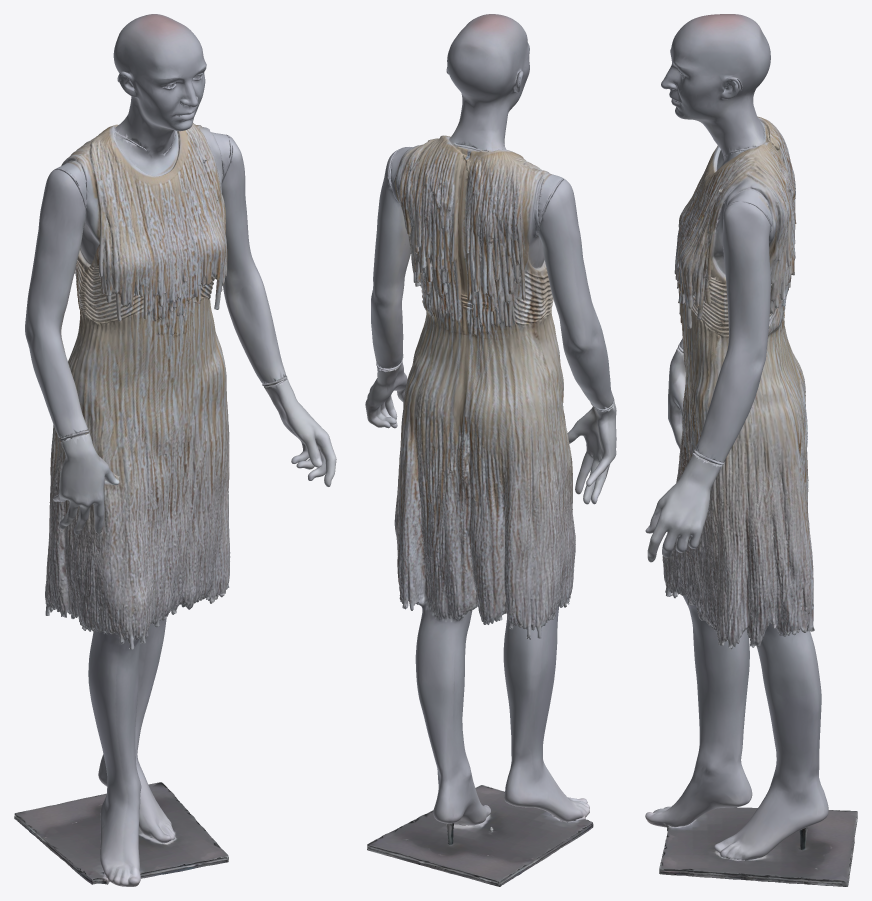
3 views of the same model, side by side, from view 1: azimuth 30°, elevation 25°; view 2: azimuth 150°, elevation 25°; view 3: azimuth 270°, elevation 25° (orthographic). The views are drawn at different scales.
Visible parts, largest first — view 1: tripo_node_6e50b9ff-44ca-4a4e-91c3-ec0751535efc; view 2: tripo_node_6e50b9ff-44ca-4a4e-91c3-ec0751535efc; view 3: tripo_node_6e50b9ff-44ca-4a4e-91c3-ec0751535efc.
Boxes of the visible parts, left/top/right/bottom form: tripo_node_6e50b9ff-44ca-4a4e-91c3-ec0751535efc: left=14, top=14, right=336, bottom=886; tripo_node_6e50b9ff-44ca-4a4e-91c3-ec0751535efc: left=365, top=14, right=616, bottom=886; tripo_node_6e50b9ff-44ca-4a4e-91c3-ec0751535efc: left=645, top=14, right=857, bottom=886.
Size of the model in its own units: 0.3294 by 0.9795 by 0.2248.
Materials: 1 (1 with a texture image).
